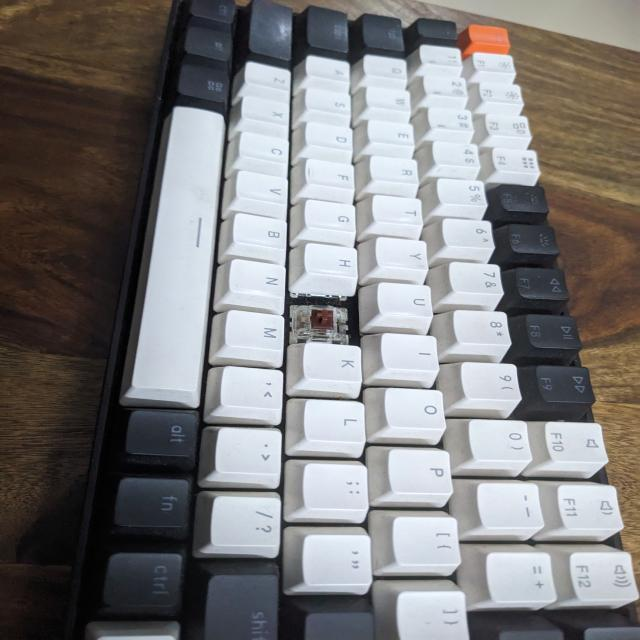C: (297, 296, 356, 344)
